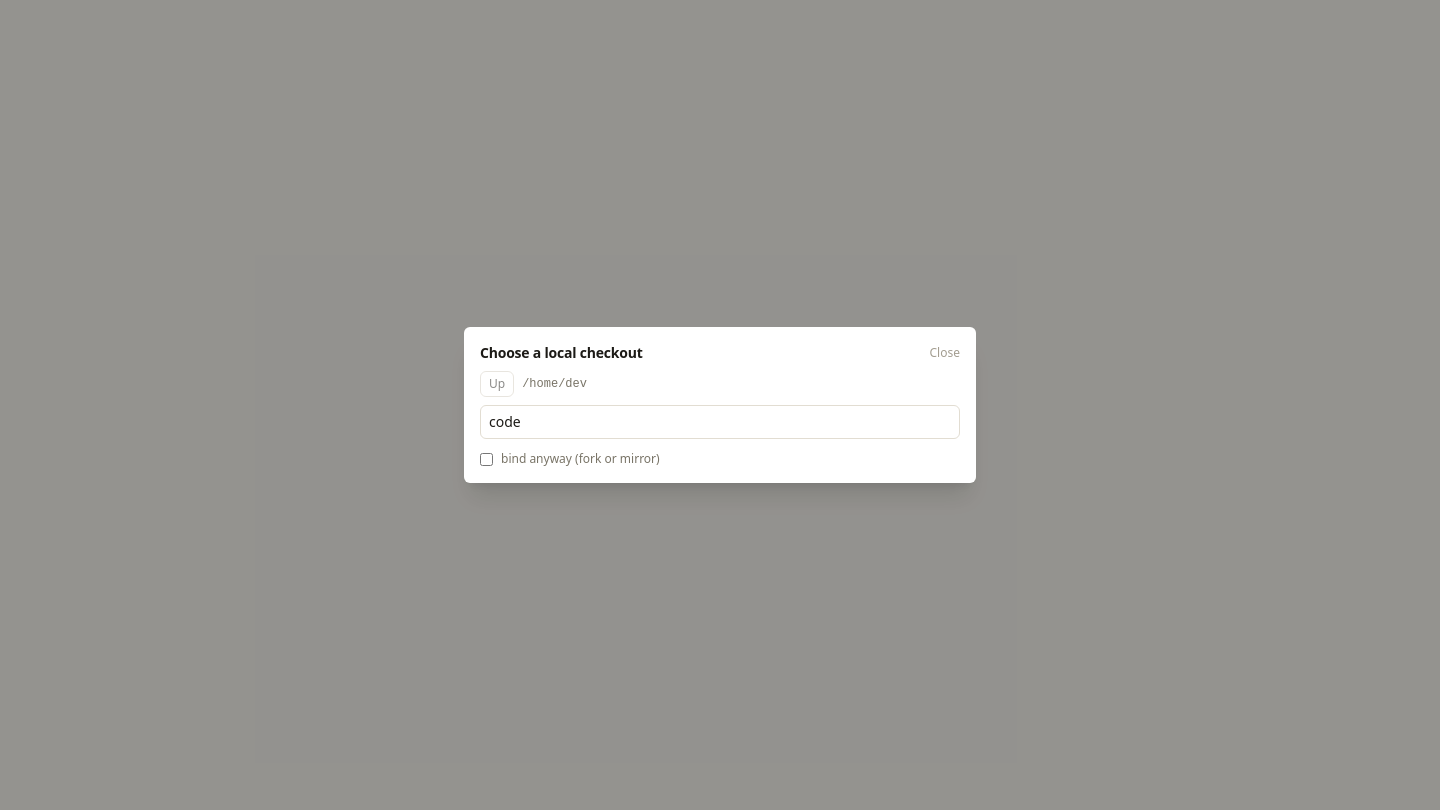
Scenario: CheckoutPicker › Up navigates to the parent directory
What coordinates should you click on to do the following:
click the button "code"
I would click on:
 (505, 422)
Its box is [489,412,521,432].
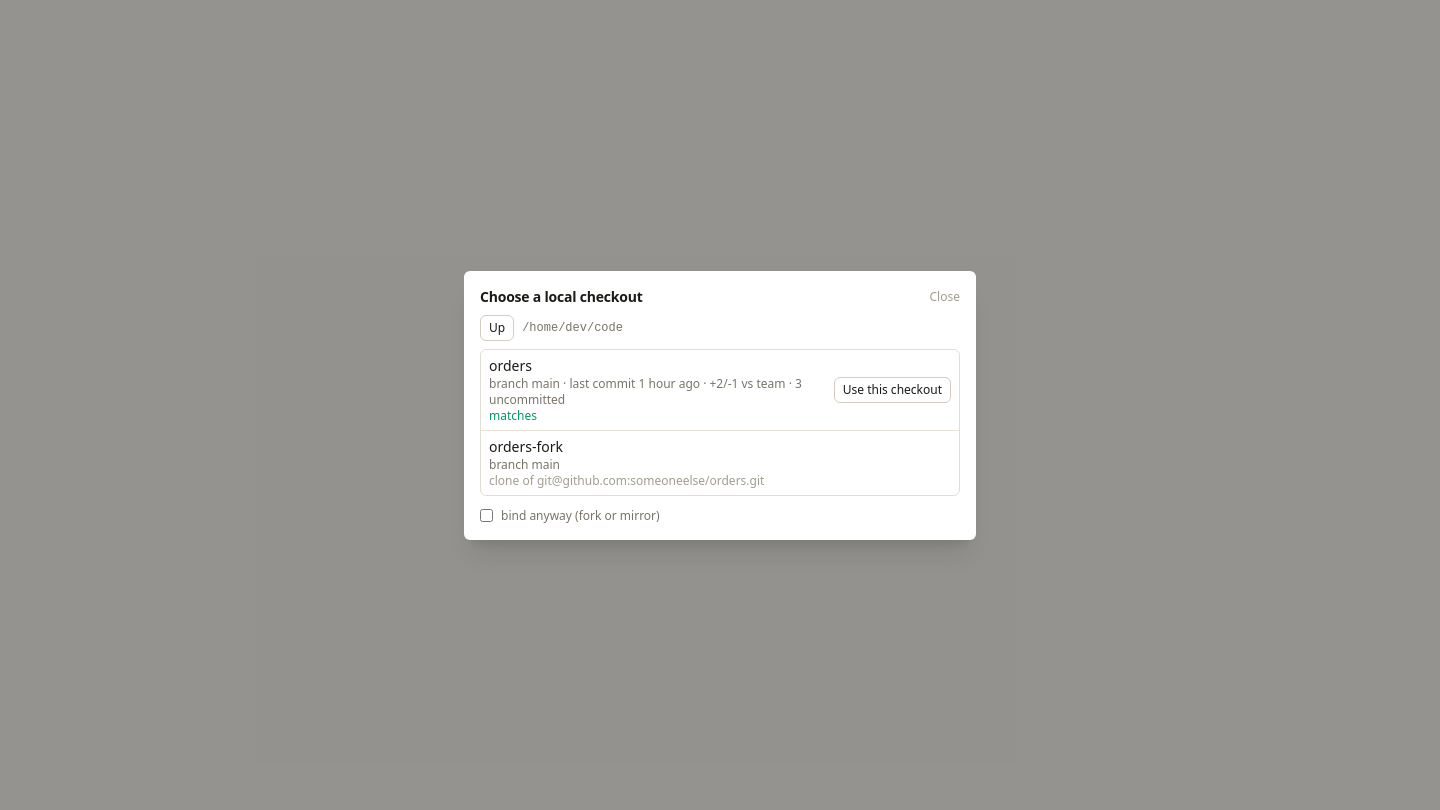
Expected: the button "Up" is enabled
What coordinates should you click on to do the following:
click the button "Up"
I would click on:
 (497, 328)
Its box is [480,314,514,340].
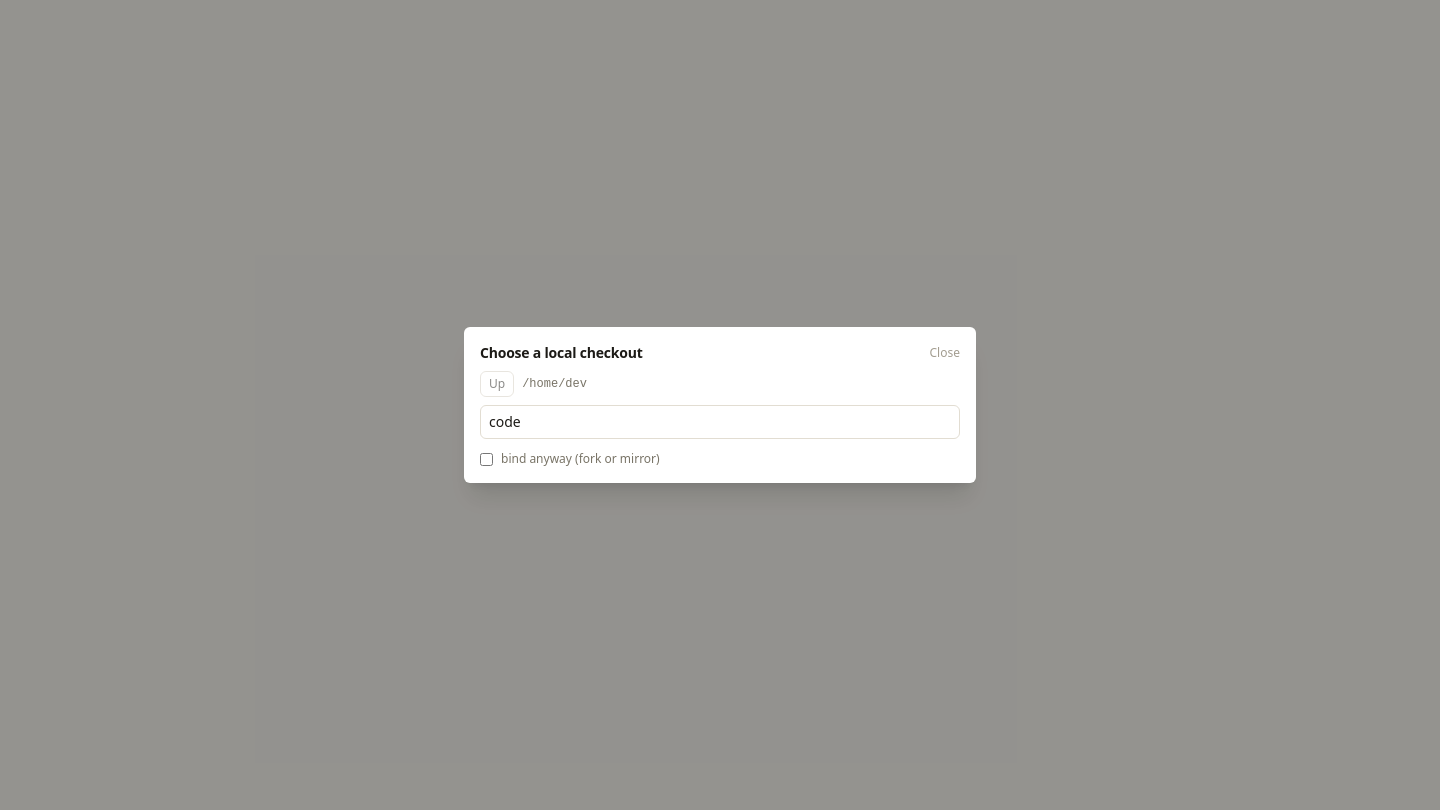
Expected: the button "Up" is disabled, [480,371,514,397]
